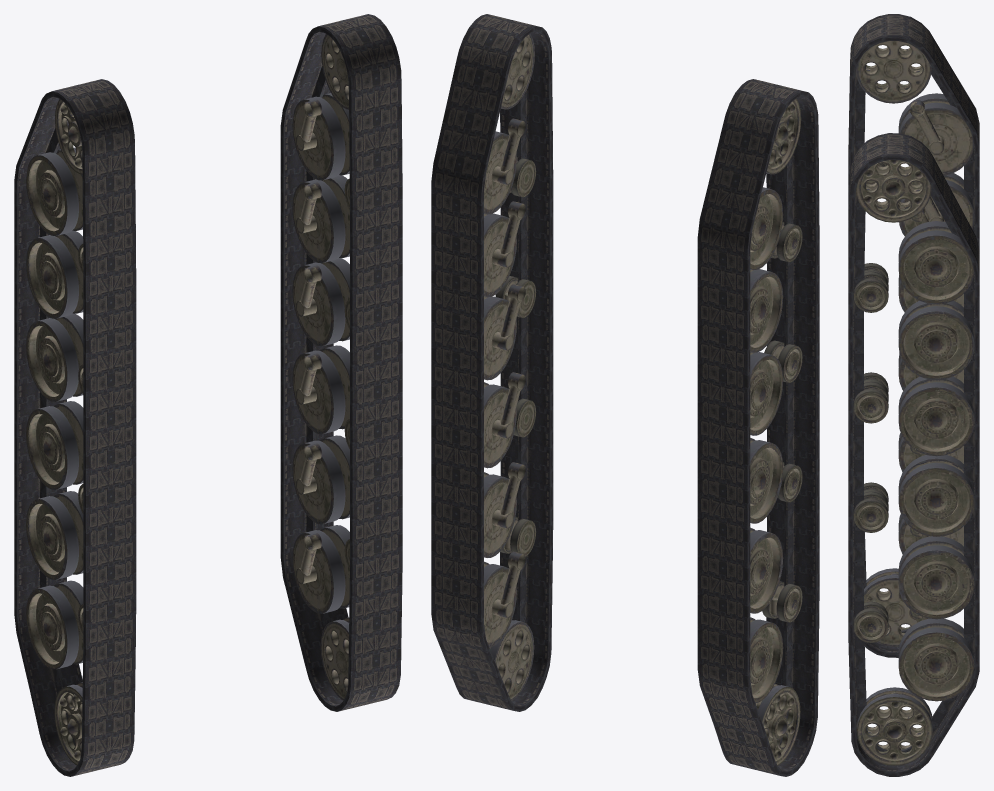
File: Chassis.glb
The picture shows the model from 3 angles, left to right: view 1: azimuth 30°, elevation 25°; view 2: azimuth 150°, elevation 25°; view 3: azimuth 270°, elevation 25°; orthographic projection. The views are drawn at different scales.
Visible parts, largest first — view 1: set_1_group_0, set_0_group_0, set_3_group_0, set_2_group_0; view 2: set_1_group_0, set_0_group_0, set_3_group_0, set_2_group_0; view 3: set_3_group_0, set_0_group_0, set_2_group_0, set_1_group_0.
Part boxes in pixels (x1,y1,x2,y2): set_1_group_0: (14,79,136,776); set_0_group_0: (280,14,402,711); set_3_group_0: (292,34,349,700); set_2_group_0: (26,99,83,765); set_1_group_0: (697,79,819,776); set_0_group_0: (431,14,553,711); set_3_group_0: (484,33,536,700); set_2_group_0: (750,98,802,765); set_3_group_0: (853,160,974,765); set_0_group_0: (848,133,979,776); set_2_group_0: (856,41,974,646); set_1_group_0: (848,14,979,657).
Size of the model in its own units: 2.87 by 5.87 by 1.13.
4 materials, 4 textured.
